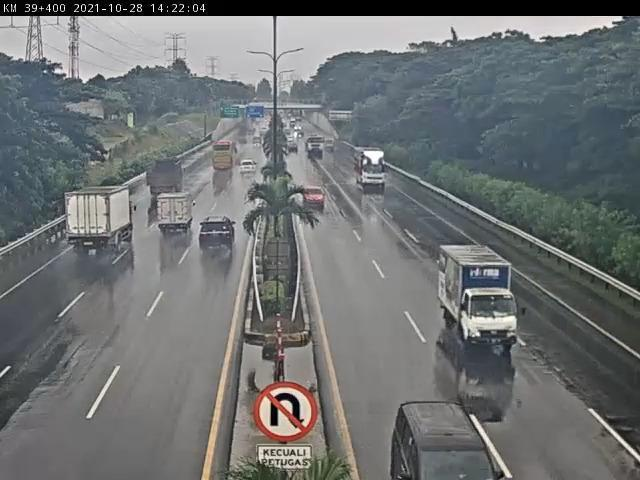bus: (210, 139, 242, 175)
car: (201, 219, 235, 252), (302, 184, 329, 210), (237, 159, 259, 180)
truck: (437, 243, 519, 353), (67, 186, 136, 253), (144, 157, 188, 202), (156, 192, 195, 234), (356, 146, 391, 190)
